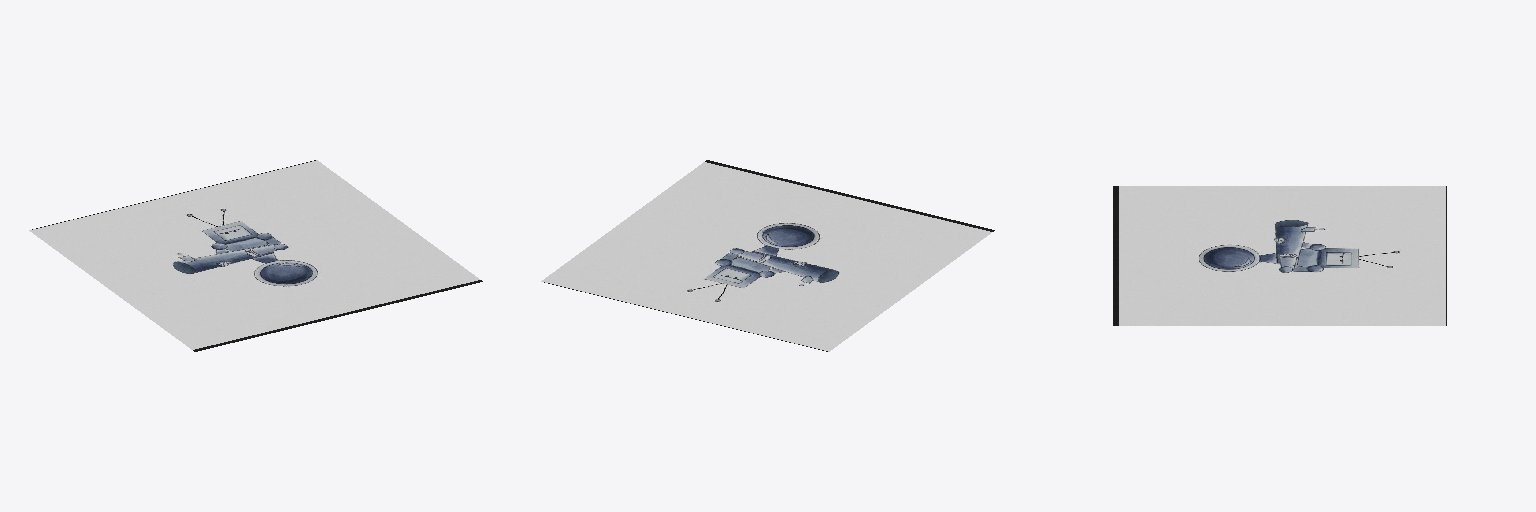
3 views of the same model, side by side, from view 1: azimuth 30°, elevation 25°; view 2: azimuth 150°, elevation 25°; view 3: azimuth 270°, elevation 25° (orthographic).
Visible parts, largest first — view 1: pPlane1; view 2: pPlane1; view 3: pPlane1.
Part boxes in pixels (left/top/right/bottom): pPlane1: left=29, top=160, right=482, bottom=351; pPlane1: left=541, top=160, right=994, bottom=351; pPlane1: left=1113, top=186, right=1446, bottom=325.
Size of the model in its own units: 1 by 0 by 1.
Materials: 1 (1 with a texture image).